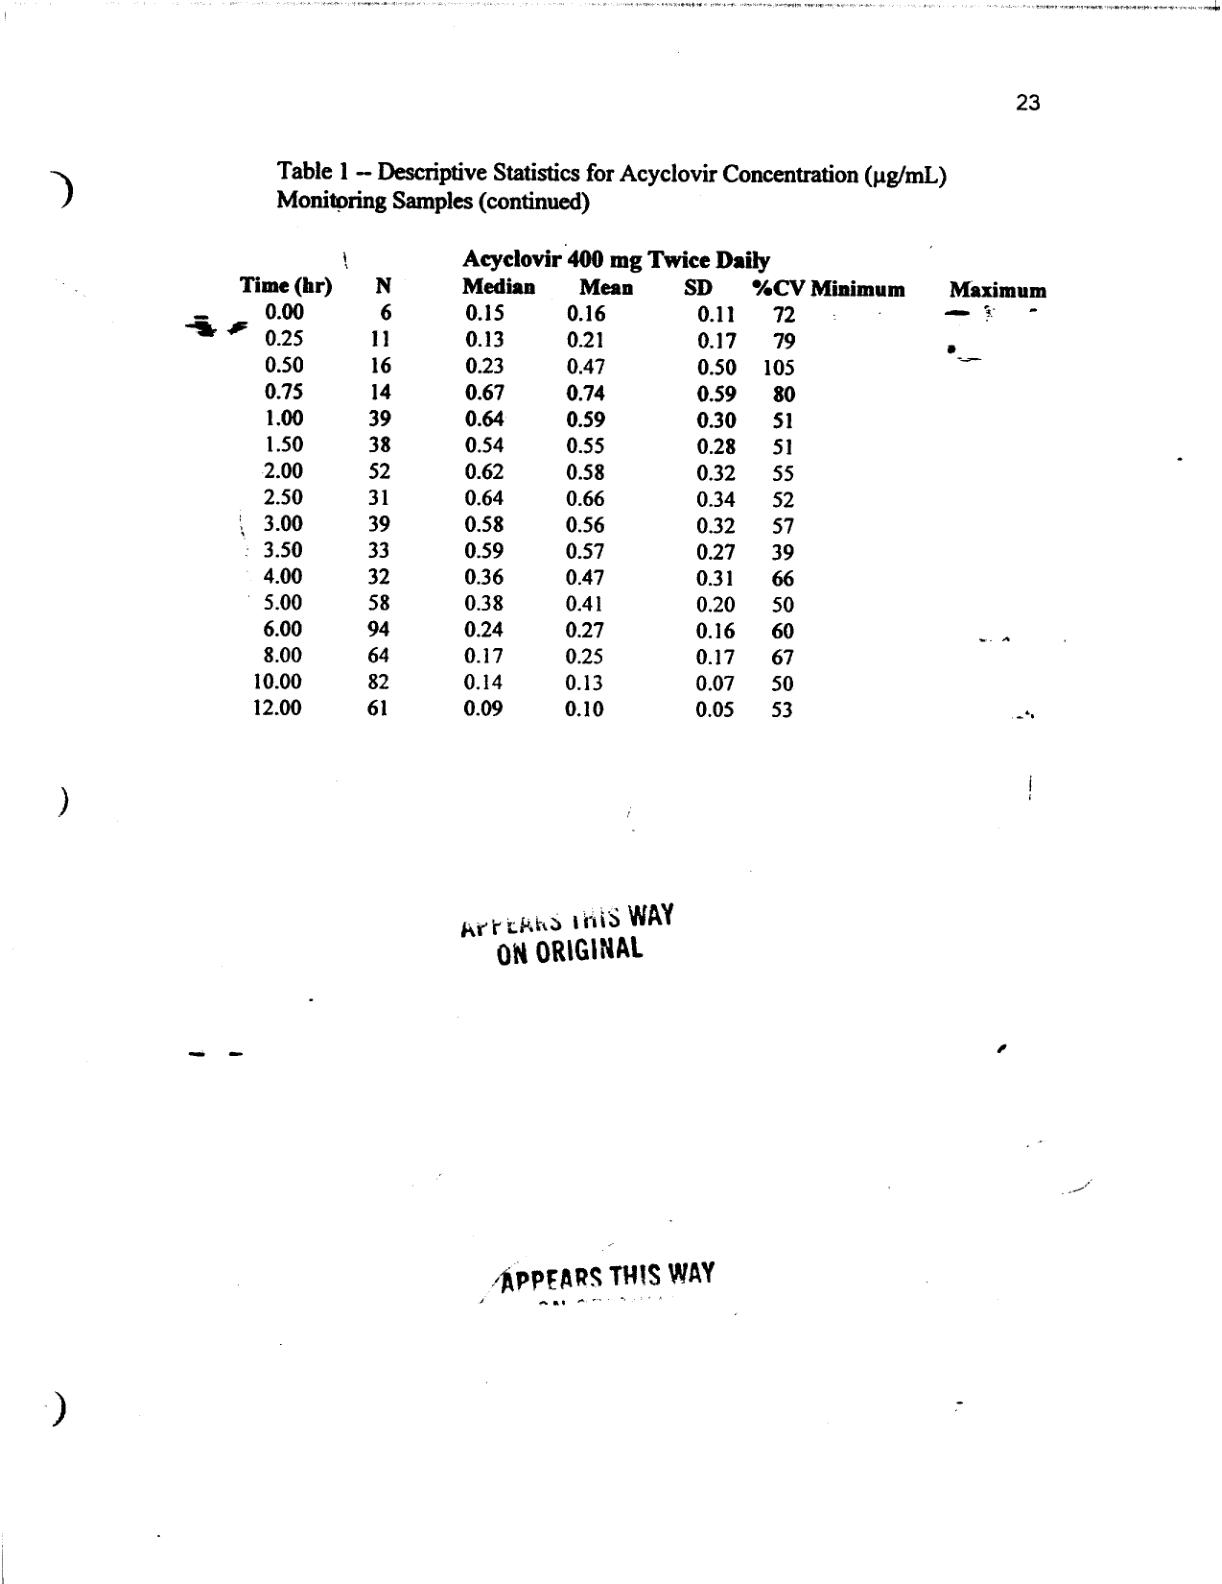nolines: (241, 243, 1053, 729)
